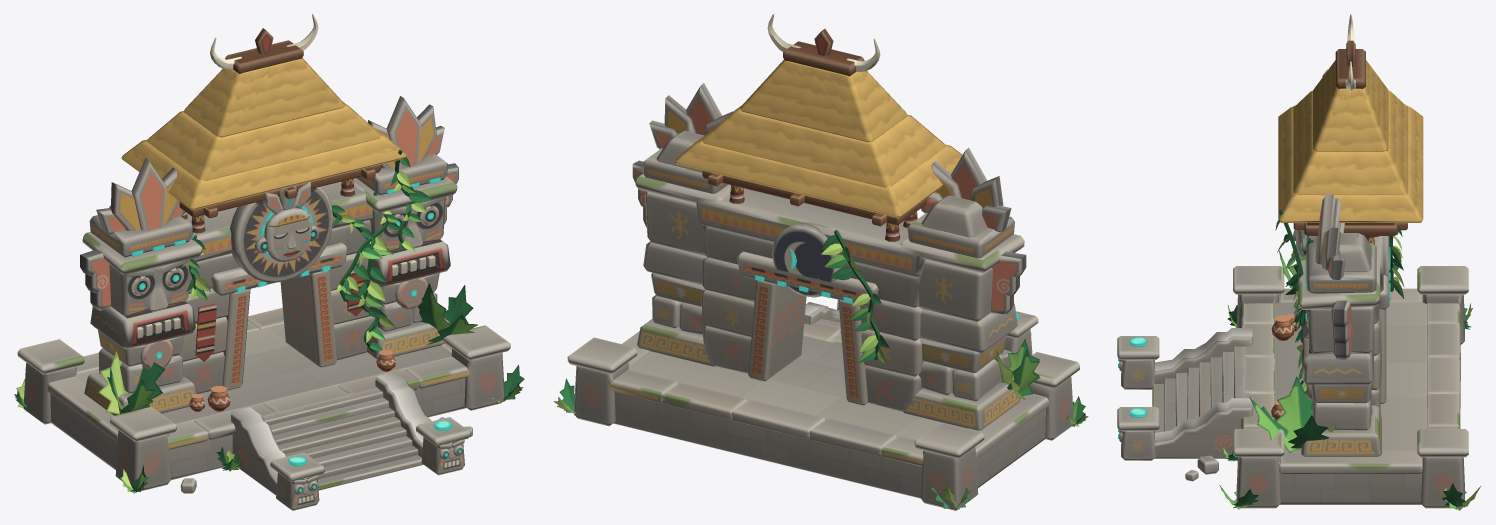
File: gate_portal.glb
3 views of the same model, side by side, from view 1: azimuth 30°, elevation 25°; view 2: azimuth 150°, elevation 25°; view 3: azimuth 270°, elevation 25° (orthographic). The views are drawn at different scales.
Visible parts, largest first — view 1: gate_portal, gate_portal_glow; view 2: gate_portal; view 3: gate_portal, gate_portal_glow.
Boxes of the visible parts, x1,y1,x2,y2 form: gate_portal: (14,14,524,510); gate_portal_glow: (131,177,461,492); gate_portal: (553,14,1088,510); gate_portal: (1117,14,1480,510); gate_portal_glow: (1118,234,1390,438).
Size of the model in its own units: 19.9 by 18.07 by 15.6.
2 materials, 2 textured.
